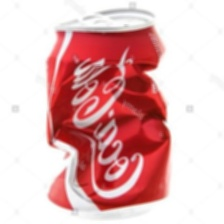can: (36, 1, 176, 221)
